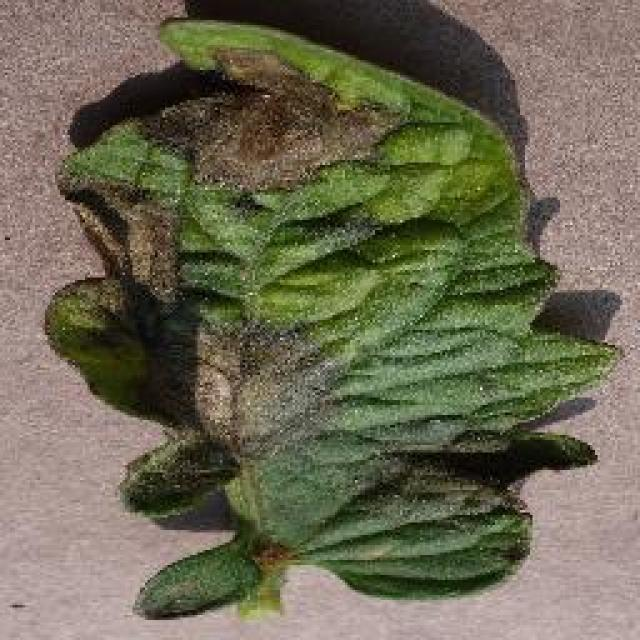Tomato___Late_blight: (45, 18, 612, 612)
